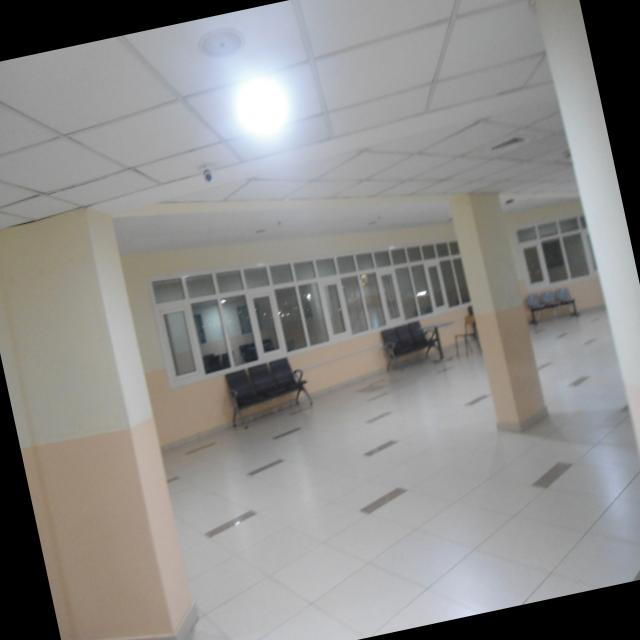bench: (210, 344, 318, 440), (372, 306, 452, 376), (522, 270, 588, 340)
light: (220, 48, 310, 168)
pillar: (439, 172, 556, 440)
wall: (0, 198, 199, 640)
